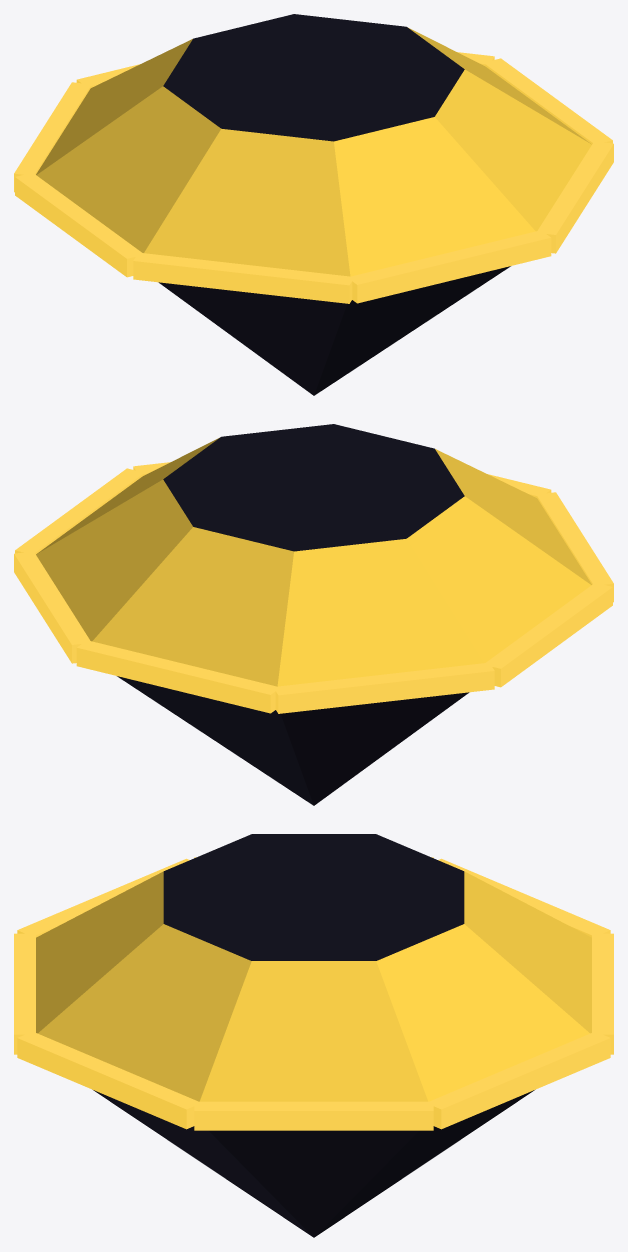
File: pickup_medal.glb
The picture shows the model from 3 angles, top to bottom: view 1: azimuth 30°, elevation 25°; view 2: azimuth 150°, elevation 25°; view 3: azimuth 270°, elevation 25°; orthographic projection. The views are drawn at different scales.
Parts seen in each view (by area): view 1: table_recess, crown_facet_3, crown_facet_2, crown_facet_4, crown_facet_1, pavilion_facet_3, pavilion_facet_2, girdle_light_3, girdle_light_2, crown_facet_5, girdle_light_4, girdle_light_1 (+3 smaller); view 2: table_recess, crown_facet_5, crown_facet_6, crown_facet_4, crown_facet_7, pavilion_facet_5, pavilion_facet_6, girdle_light_5, girdle_light_6, crown_facet_3, girdle_light_4, girdle_light_7 (+3 smaller); view 3: table_recess, crown_facet_8, crown_facet_1, crown_facet_7, pavilion_facet_8, crown_facet_2, crown_facet_6, girdle_light_8, girdle_light_1, girdle_light_7, pavilion_facet_1, pavilion_facet_7 (+4 smaller).
Boxes of the visible parts, <box> form: table_recess: <box>163,14,464,141</box>; crown_facet_3: <box>144,128,350,276</box>; crown_facet_2: <box>334,117,535,276</box>; crown_facet_4: <box>36,86,220,252</box>; crown_facet_1: <box>435,69,591,231</box>; pavilion_facet_3: <box>158,282,346,395</box>; pavilion_facet_2: <box>314,266,510,395</box>; girdle_light_3: <box>133,252,352,303</box>; girdle_light_2: <box>347,231,551,303</box>; crown_facet_5: <box>36,39,192,174</box>; girdle_light_4: <box>15,172,143,277</box>; girdle_light_1: <box>536,141,613,253</box>; table_recess: <box>163,424,464,551</box>; crown_facet_5: <box>277,538,483,686</box>; crown_facet_6: <box>92,527,293,686</box>; crown_facet_4: <box>407,496,591,662</box>; crown_facet_7: <box>36,479,192,641</box>; pavilion_facet_5: <box>281,692,469,805</box>; pavilion_facet_6: <box>117,676,313,805</box>; girdle_light_5: <box>274,662,494,713</box>; girdle_light_6: <box>76,640,280,713</box>; crown_facet_3: <box>435,449,591,584</box>; girdle_light_4: <box>483,582,612,687</box>; girdle_light_7: <box>14,551,91,663</box>; table_recess: <box>163,834,464,960</box>; crown_facet_8: <box>200,961,427,1101</box>; crown_facet_1: <box>38,924,251,1101</box>; crown_facet_7: <box>376,924,589,1101</box>; pavilion_facet_8: <box>209,1130,418,1237</box>; crown_facet_2: <box>36,871,163,1033</box>; crown_facet_6: <box>464,871,591,1033</box>; girdle_light_8: <box>194,1101,433,1130</box>; girdle_light_1: <box>17,1031,200,1129</box>; girdle_light_7: <box>426,1032,610,1129</box>; pavilion_facet_1: <box>93,1090,313,1237</box>; pavilion_facet_7: <box>314,1090,534,1237</box>.
Bounding box in the file's own units: 1.92 × 1.2 × 1.92.
